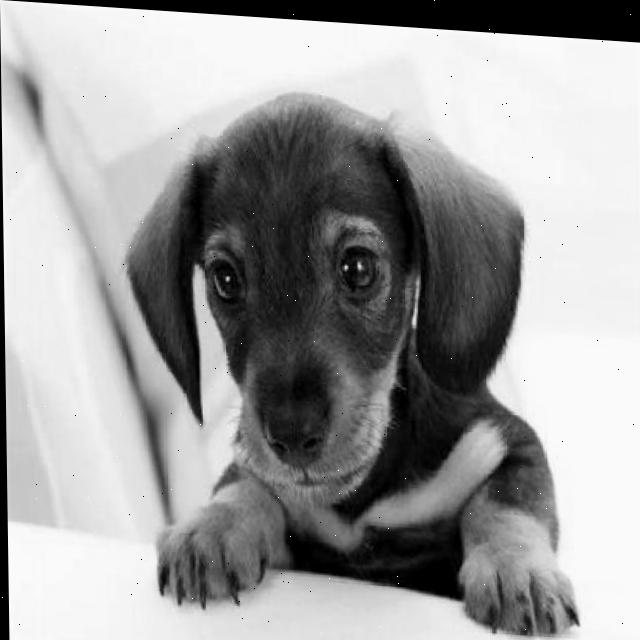Dog: (125, 71, 591, 640)
